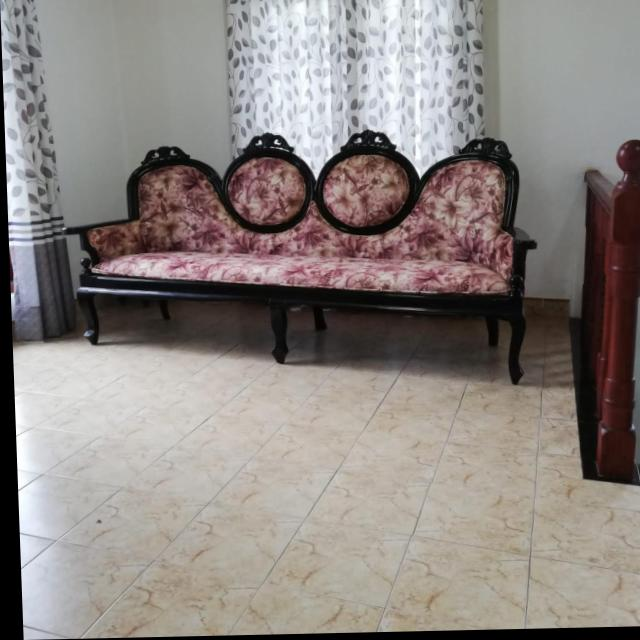Sofa: (57, 129, 541, 395)
